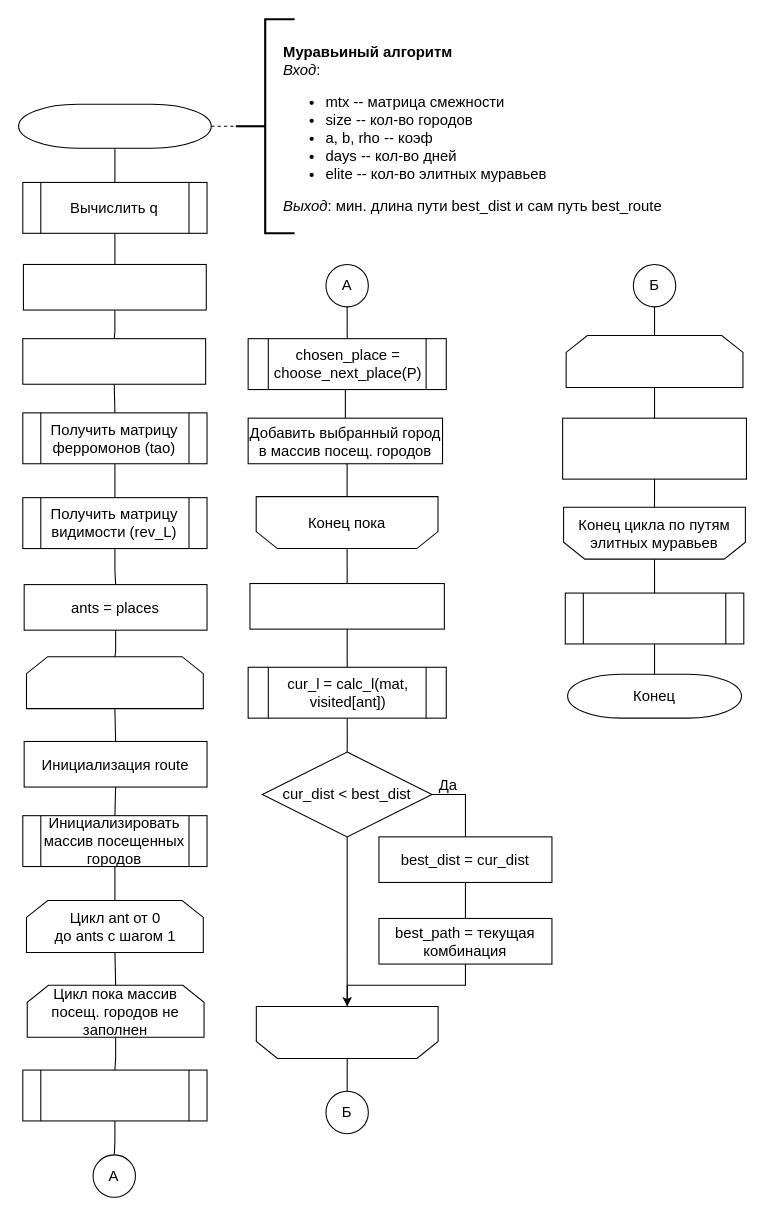
Some shapes in this 765 by 1216 pixel diagram are drawn without their labels. Here are the shapes that lost their labels. From the top down, the box of each, then its label:
(17, 103, 211, 148): Начало
(22, 263, 206, 310): best_dist = inf
(22, 338, 206, 384): Инициализировать best_path
(565, 334, 743, 387): Цикл по путям элитных муравьев
(562, 417, 746, 479): Обновить список феромонов для элитных муравьев
(249, 582, 444, 629): Добавить первй город из массива посещ. в маршрут
(564, 592, 744, 644): Обновить феромоны
(25, 656, 203, 709): Цикл day от 0 до days с шагом 1
(255, 1005, 438, 1058): Конец цикла по ant
(22, 1069, 207, 1121): Массив вероятн. перехода из тек. города в непосещ.
